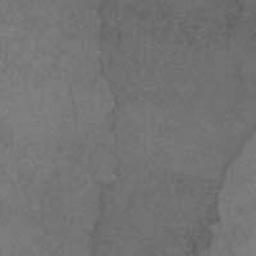Water spot: (91, 0, 256, 256)
